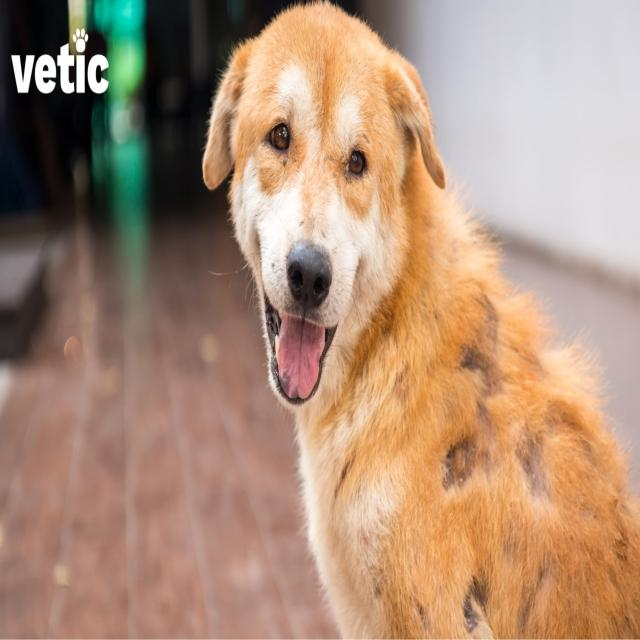fungal infection: (442, 319, 509, 416), (493, 529, 553, 629), (448, 539, 492, 633), (607, 510, 638, 640), (441, 418, 488, 493), (510, 422, 554, 500), (326, 443, 372, 512), (548, 388, 590, 461), (353, 528, 391, 604), (405, 586, 436, 633), (474, 269, 501, 318)
